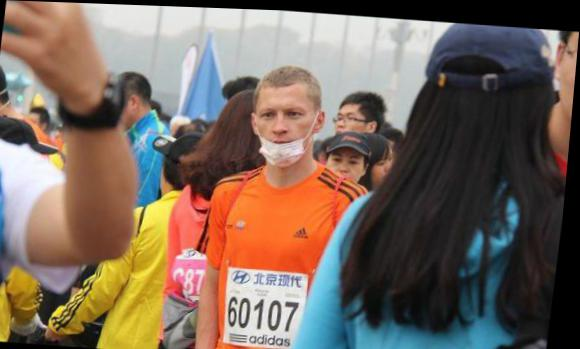NONE: (326, 147, 367, 186), (334, 103, 370, 142), (373, 148, 399, 186)
WRONG: (251, 99, 321, 165)
